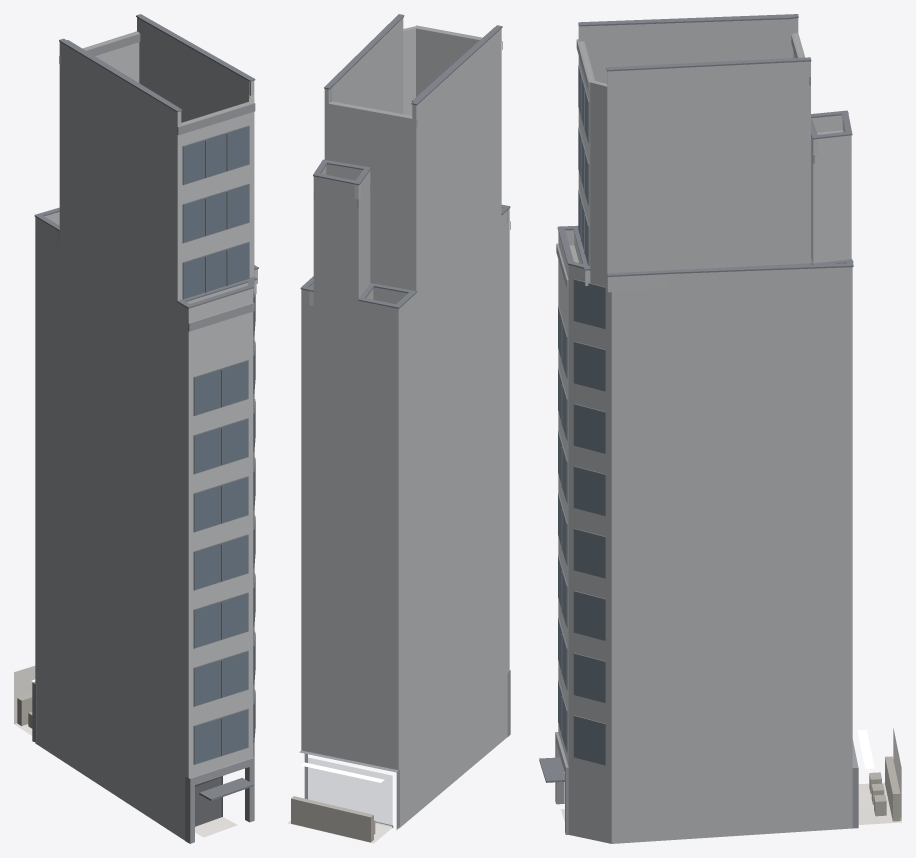
Rendered from d12-fpg-links-inferred.glb.
The picture shows the model from 3 angles, left to right: view 1: azimuth 30°, elevation 25°; view 2: azimuth 150°, elevation 25°; view 3: azimuth 270°, elevation 25°; orthographic projection. The views are drawn at different scales.
Parts seen in each view (by area): view 1: INFERRED_facade.001, INFERRED_ground.001; view 2: INFERRED_facade.001, INFERRED_ground.001; view 3: INFERRED_facade.001.
Part boxes in pixels (box(x1,y1,x2,y2)): INFERRED_facade.001: box(14, 14, 258, 843); INFERRED_ground.001: box(31, 679, 221, 826); INFERRED_facade.001: box(288, 14, 510, 843); INFERRED_ground.001: box(301, 757, 392, 827); INFERRED_facade.001: box(539, 14, 901, 843).
Size of the model in its own units: 7.42 by 44.95 by 18.98.
Materials: 3 (1 with a texture image).
